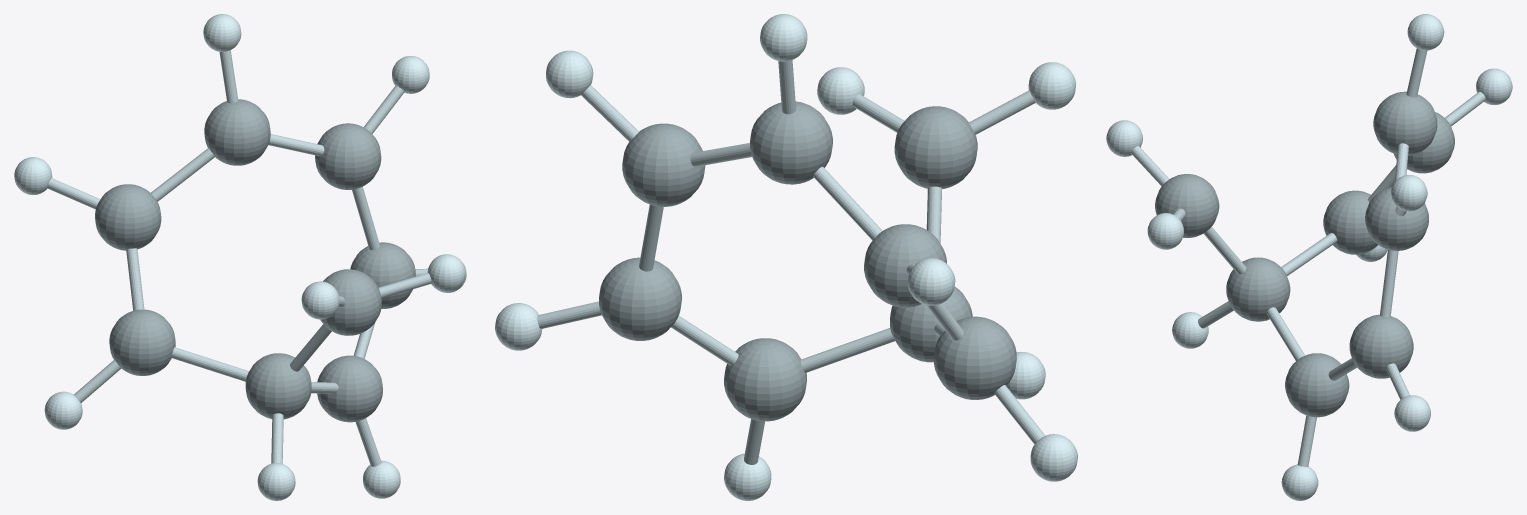
Rendered from irc_step_096.glb.
3 views of the same model, side by side, from view 1: azimuth 30°, elevation 25°; view 2: azimuth 150°, elevation 25°; view 3: azimuth 270°, elevation 25° (orthographic). The views are drawn at different scales.
Parts seen in each view (by area): view 1: Renderer Node; view 2: Renderer Node; view 3: Renderer Node.
Boxes of the visible parts, <box> form: Renderer Node: <box>14,14,466,500</box>; Renderer Node: <box>495,14,1077,500</box>; Renderer Node: <box>1106,14,1512,500</box>.
Size of the model in its own units: 5.31 by 5.28 by 4.42.
